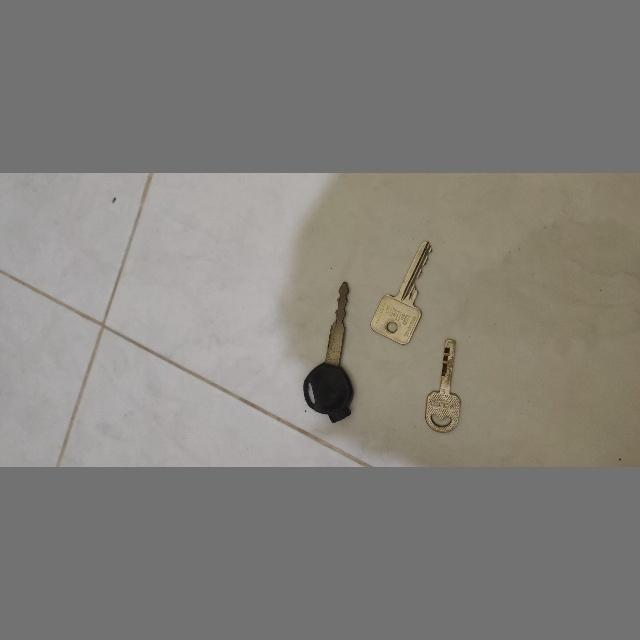Keys: (301, 278, 359, 426), (370, 238, 438, 346), (422, 334, 463, 438)
